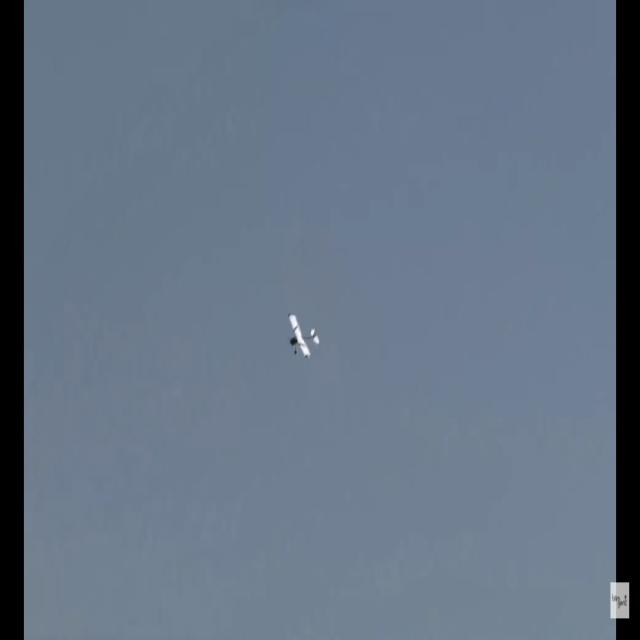iha: (287, 312, 319, 358)
